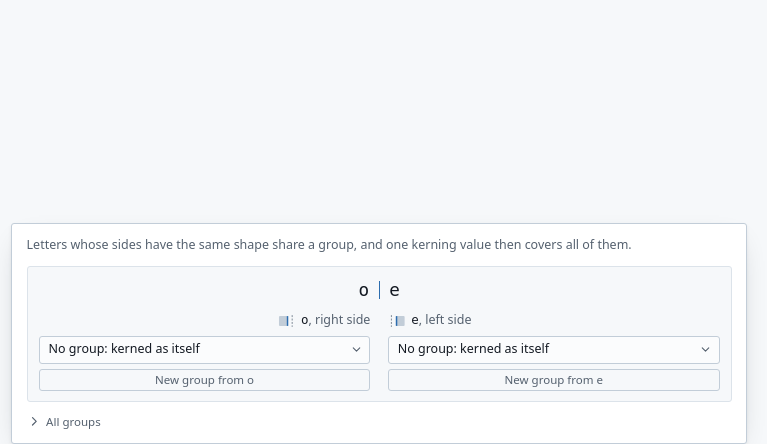
Test case: filling a group › will not add a glyph the font does not have
This screenshot has width=767, height=444.
(page scrolled)
Click the button "All groups" at (64, 421), box [27,413,101,430]
(page scrolled)
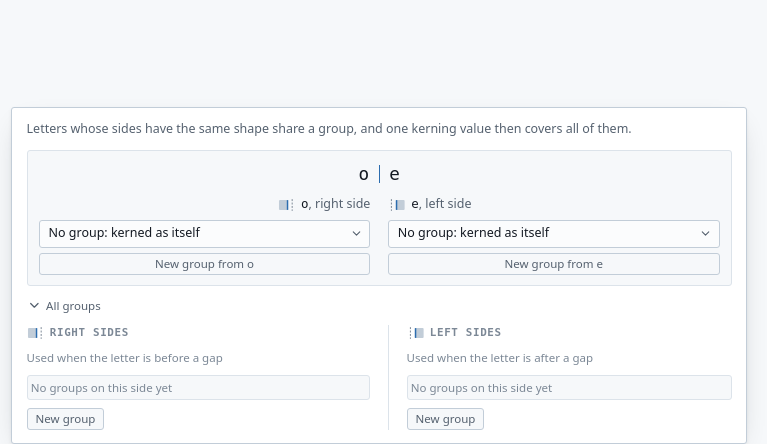
Click the button "New group" below "Used when the letter is before a gap" at (66, 419), box [27,408,104,430]
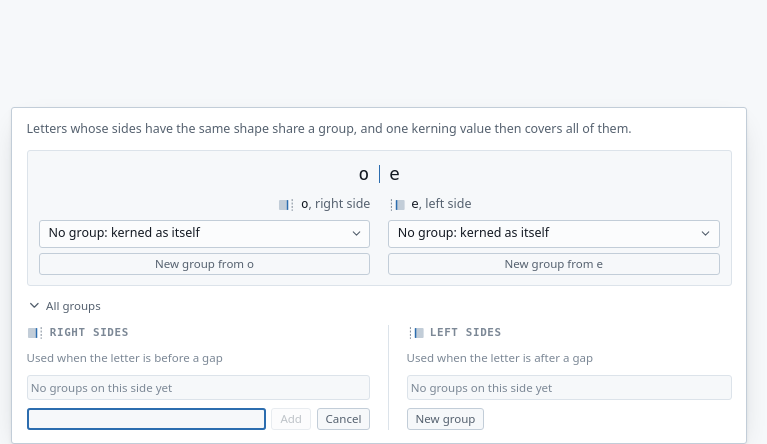
Type "O_round" into the field named "Name for the new group" at (146, 419), box [27,408,266,430]
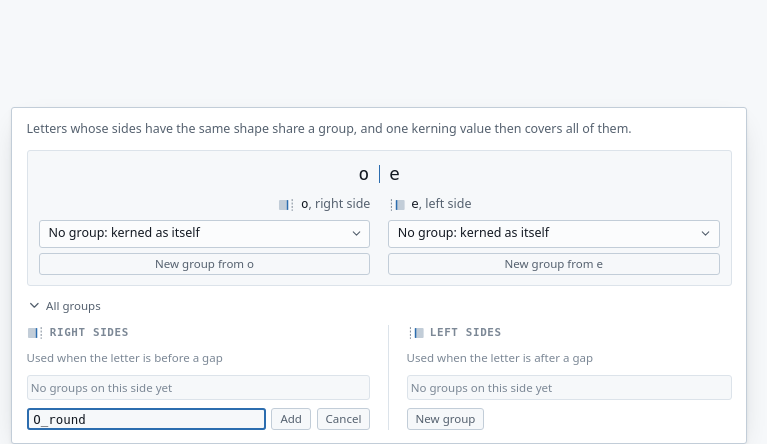
Click the button "Add" at (291, 419), box [271,408,311,430]
(page scrolled)
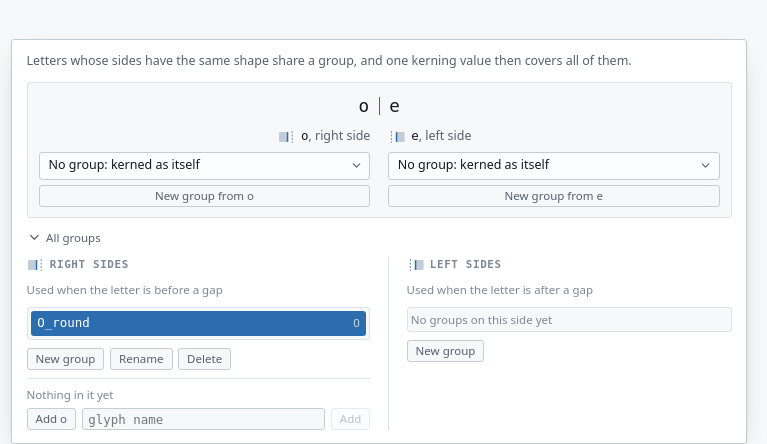
Type "no-such-glyph" into the field named "Glyph to add to O_round" at (204, 419), box [82,408,325,430]
(page scrolled)
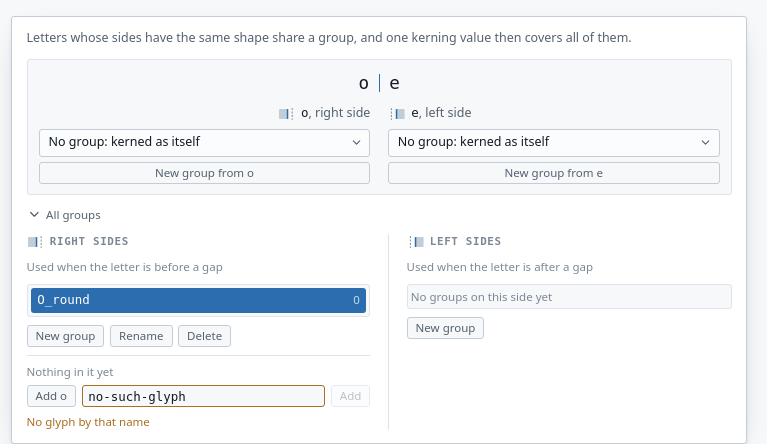
Expected: the message reads "No glyph by that name", [27,414,150,429]
